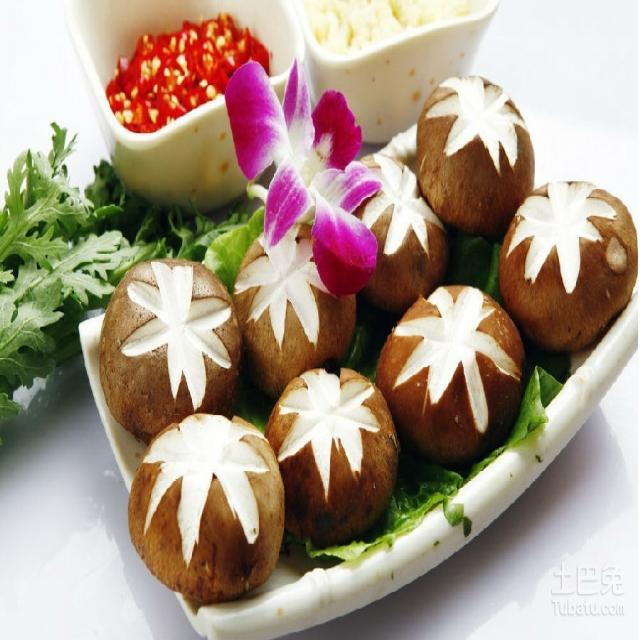Lentinus edodes: (130, 410, 283, 599), (378, 286, 524, 462), (101, 258, 241, 436), (500, 178, 637, 352), (265, 370, 398, 537), (237, 221, 358, 381), (415, 73, 535, 233), (340, 155, 445, 297)
